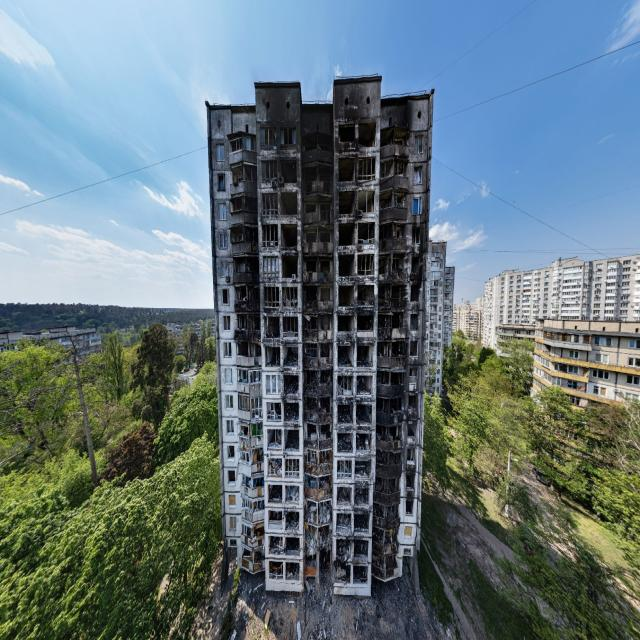broken_window: (221, 288, 229, 305), (227, 444, 235, 458), (230, 514, 237, 528), (223, 315, 230, 329), (223, 343, 231, 355), (228, 469, 235, 482), (229, 494, 236, 505), (226, 421, 233, 431)
building: (208, 77, 433, 598)
damage: (207, 77, 433, 598)
other: (0, 0, 640, 640), (0, 0, 225, 640)
roof: (254, 82, 300, 102), (381, 90, 433, 102), (332, 78, 359, 94), (208, 102, 256, 104), (380, 78, 383, 100), (301, 101, 331, 102), (359, 77, 383, 78), (300, 82, 301, 102), (331, 94, 332, 101)
